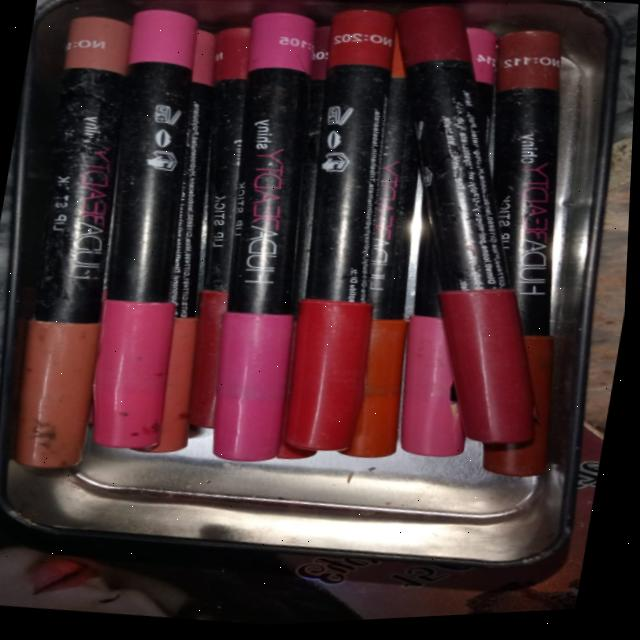lip liner: (306, 0, 620, 475), (251, 0, 444, 477), (176, 0, 361, 484), (54, 0, 243, 473), (0, 0, 169, 491)
